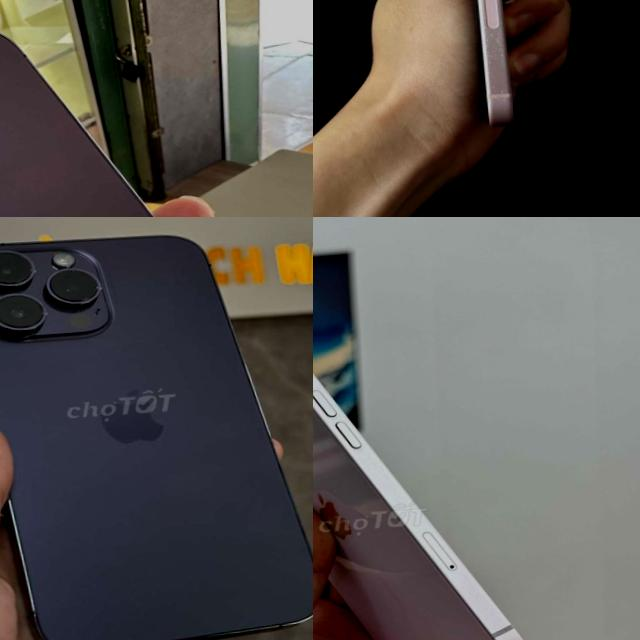gen_14: (0, 218, 313, 640), (313, 283, 557, 640), (0, 5, 294, 217)
gen_15: (424, 0, 546, 130)
